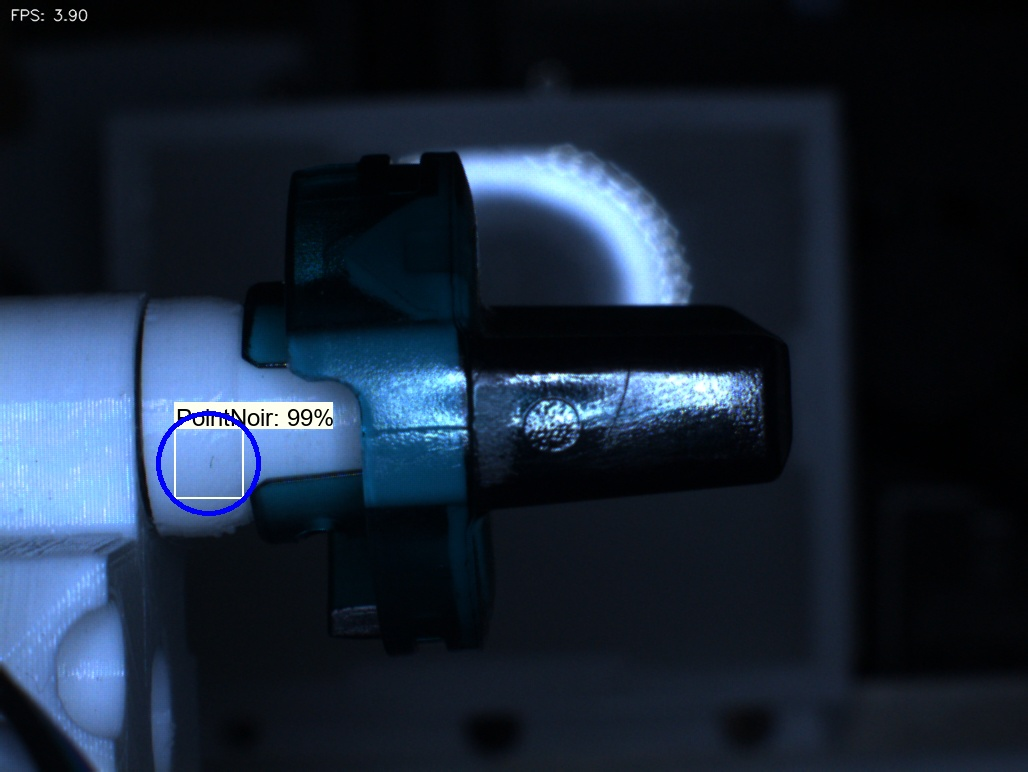DentOk: (305, 212, 388, 308)
